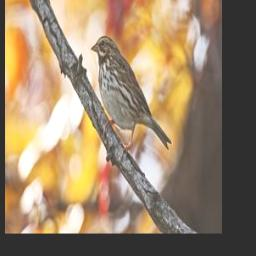Sparrow: (90, 34, 171, 158)
